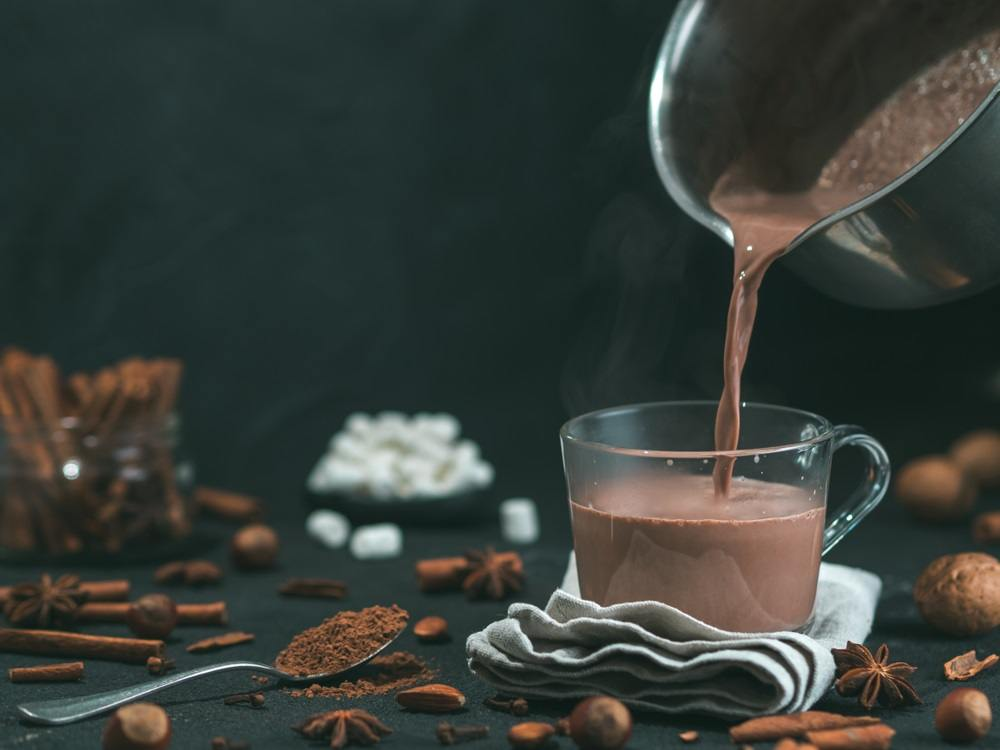produk_susu: (604, 417, 802, 606)
